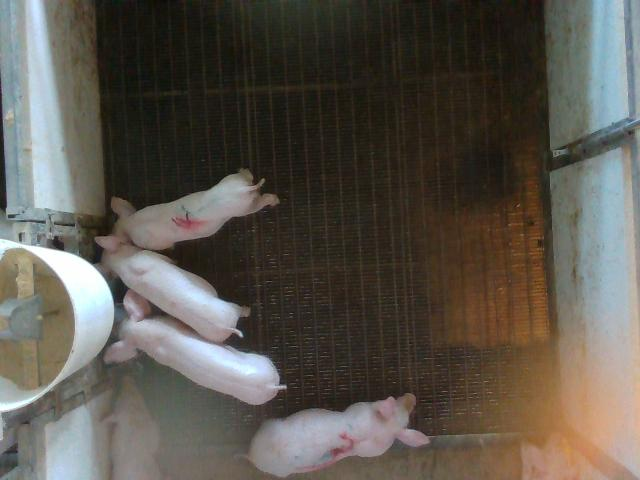pig-3: (246, 394, 430, 477)
pig-4: (111, 169, 279, 249)
